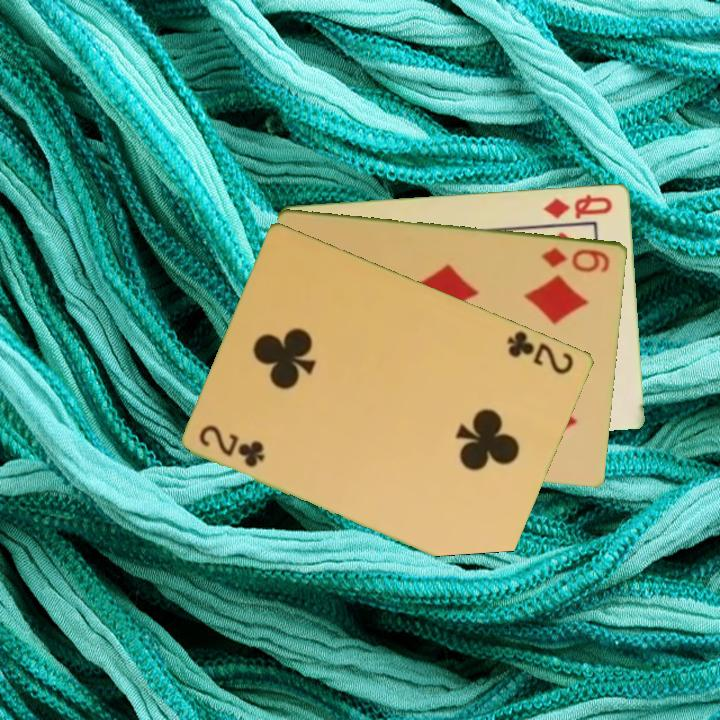2c: (503, 327, 577, 377), (196, 420, 268, 471)
6d: (538, 243, 613, 275)
Qd: (540, 189, 616, 221)
